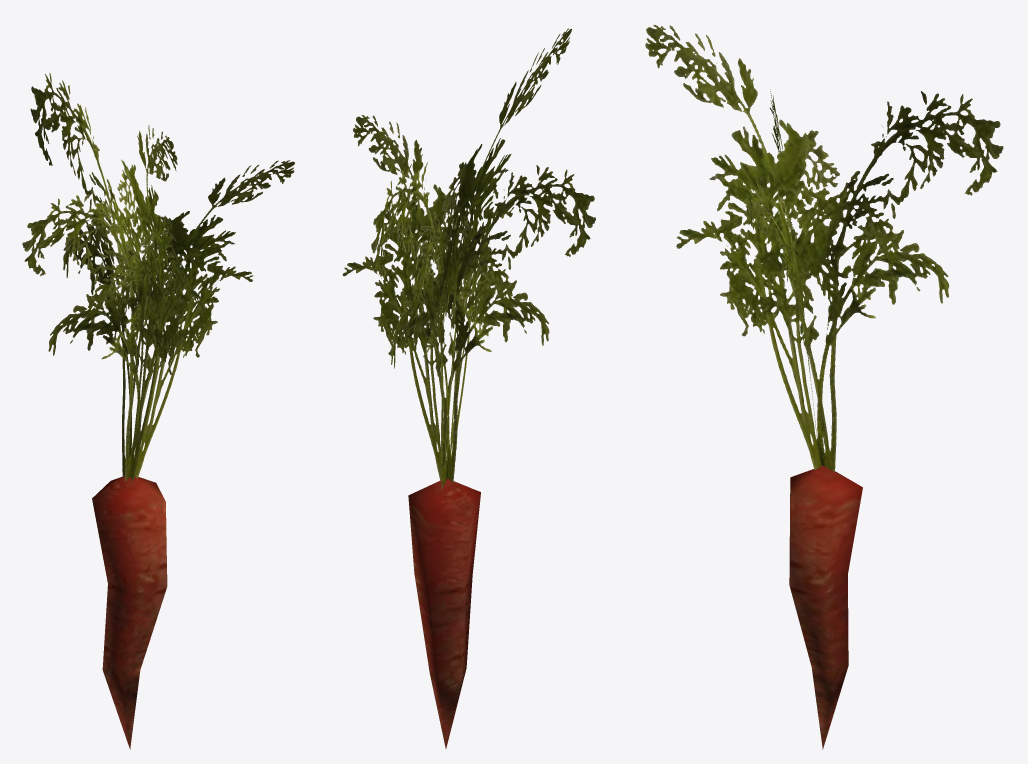
The model's file is KM_VOB_CARROT.glb.
The picture shows the model from 3 angles, left to right: view 1: azimuth 30°, elevation 25°; view 2: azimuth 150°, elevation 25°; view 3: azimuth 270°, elevation 25°; orthographic projection. The views are drawn at different scales.
Visible parts, largest first — view 1: Mesh; view 2: Mesh; view 3: Mesh.
Part boxes in pixels (x1=…): Mesh: x1=22, y1=73, x2=294, y2=749; Mesh: x1=342, y1=28, x2=595, y2=748; Mesh: x1=645, y1=25, x2=1003, y2=749.
Size of the model in its own units: 0.4625 by 1.14 by 0.546.
Materials: 1 (1 with a texture image).
